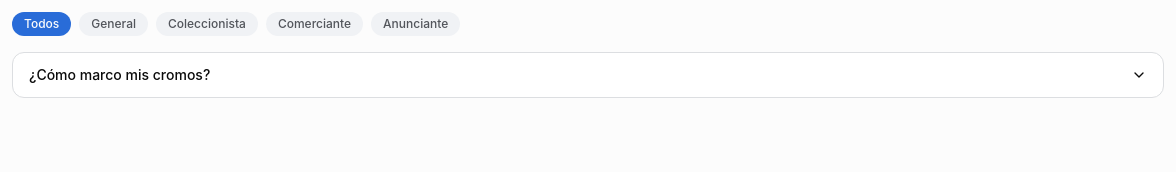
FAQAccordion › shows the empty state when no item matches the audience filter
Click the button with test id "faq-filter-anunciante".
click(416, 24)  # box [371,12,460,36]
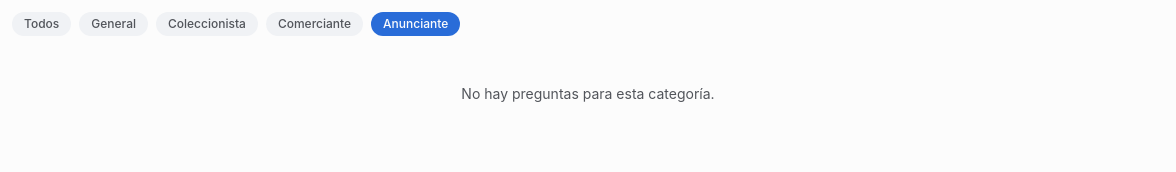
Now the text "No hay preguntas para esta categoría." is shown, box [461,85,715,102]
